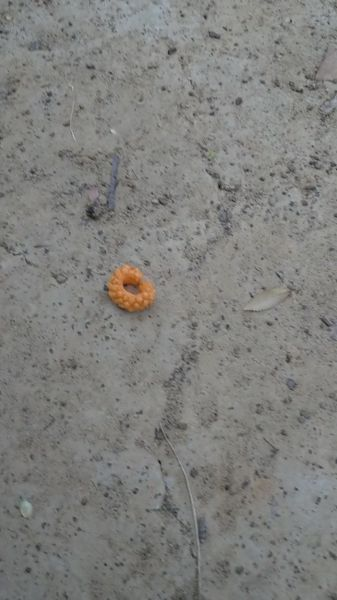eggs: (101, 256, 160, 319)
